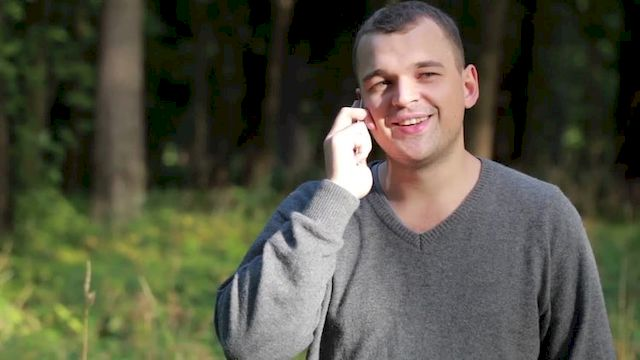phone: (337, 95, 376, 158)
talk: (325, 54, 456, 189)
